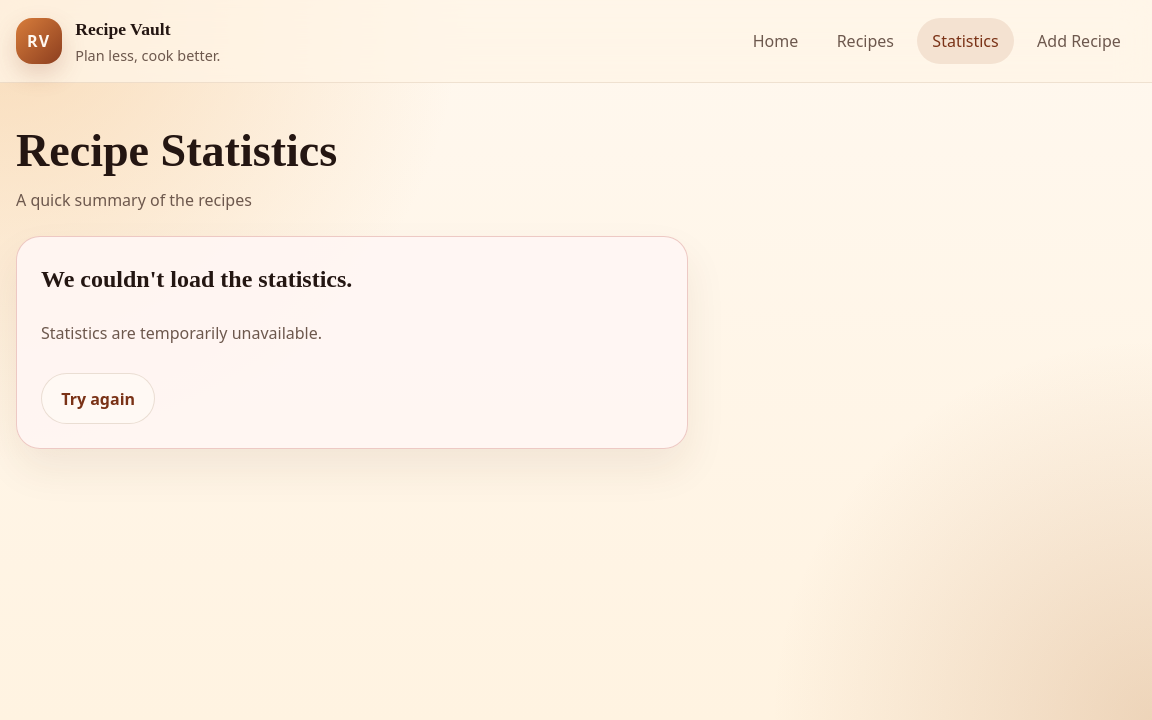
Test: Recipe statistics page › shows a retry panel when the statistics request fails
The width and height of the screenshot is (1152, 720).
Expected: the heading "We couldn't load the statistics." is shown, [41,266,352,292]
Click the button "Try again": (98, 399) [41,373,155,424]
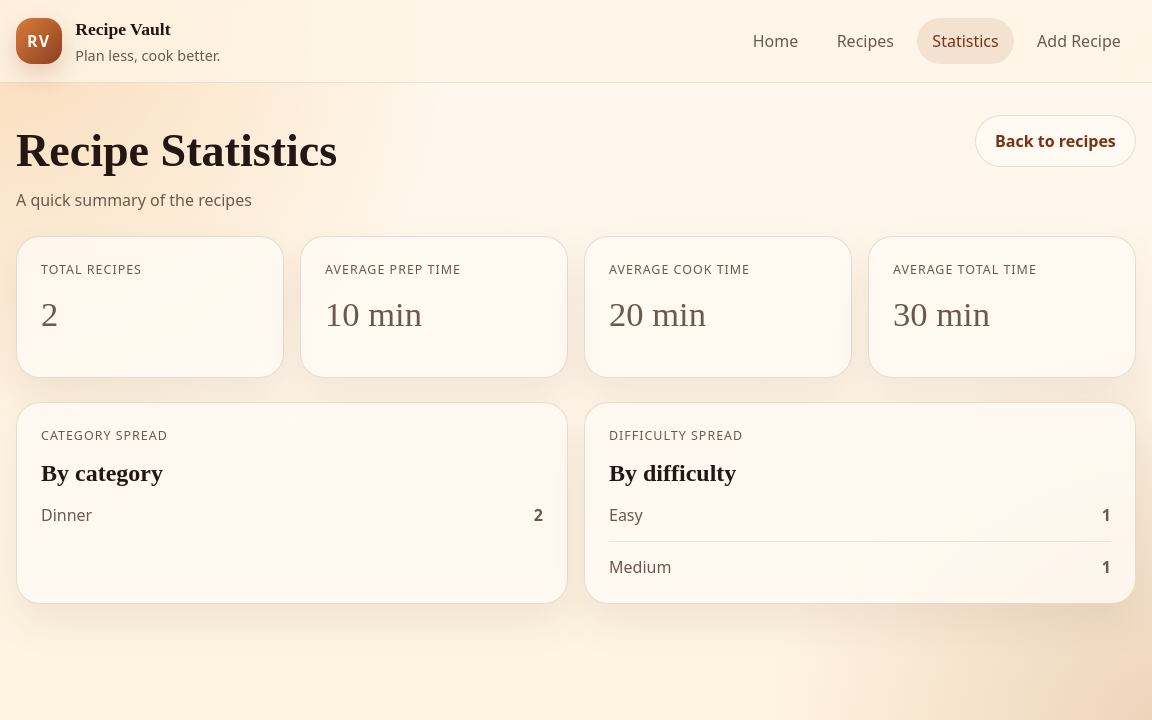
Now the text "Dinner" is shown, box [41,503,92,527]
Now the text "30 min" is shown, box [893,295,990,333]
